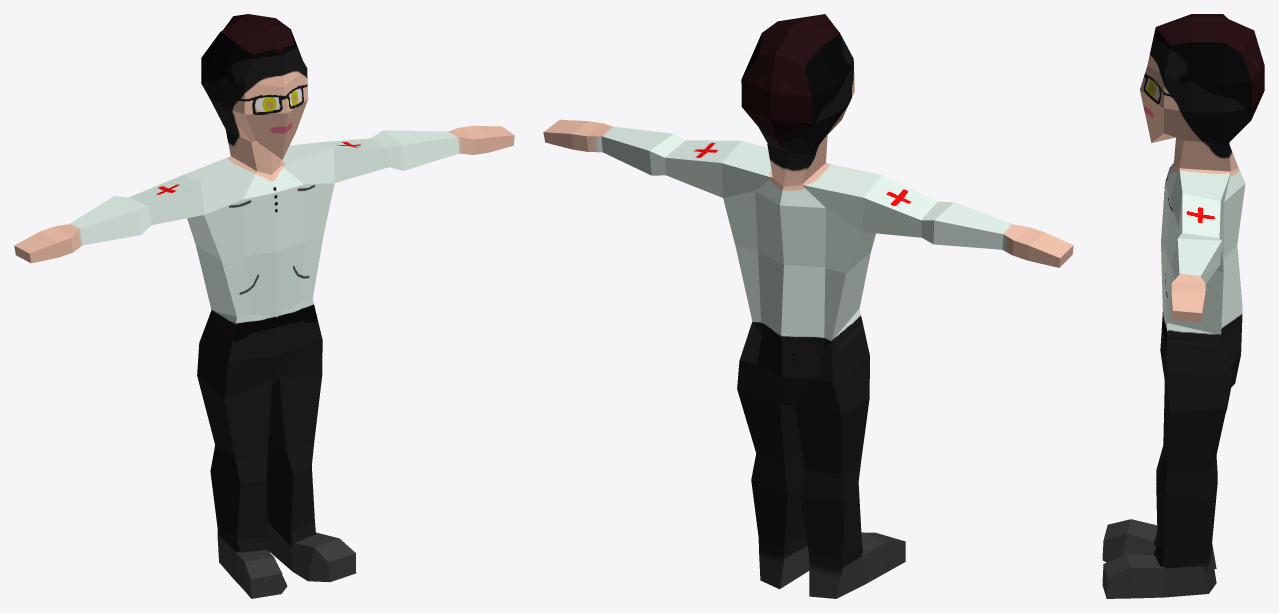
File: ianmodel.fbx
The picture shows the model from 3 angles, left to right: view 1: azimuth 30°, elevation 25°; view 2: azimuth 150°, elevation 25°; view 3: azimuth 270°, elevation 25°; orthographic projection. The views are drawn at different scales.
Parts seen in each view (by area): view 1: Player; view 2: Player; view 3: Player.
Part boxes in pixels (<box>): Player: <box>14,14,514,598</box>; Player: <box>543,14,1073,598</box>; Player: <box>1102,14,1264,598</box>.
Bounding box in the file's own units: 1255 × 1315 × 345.
1 material, 1 textured.
